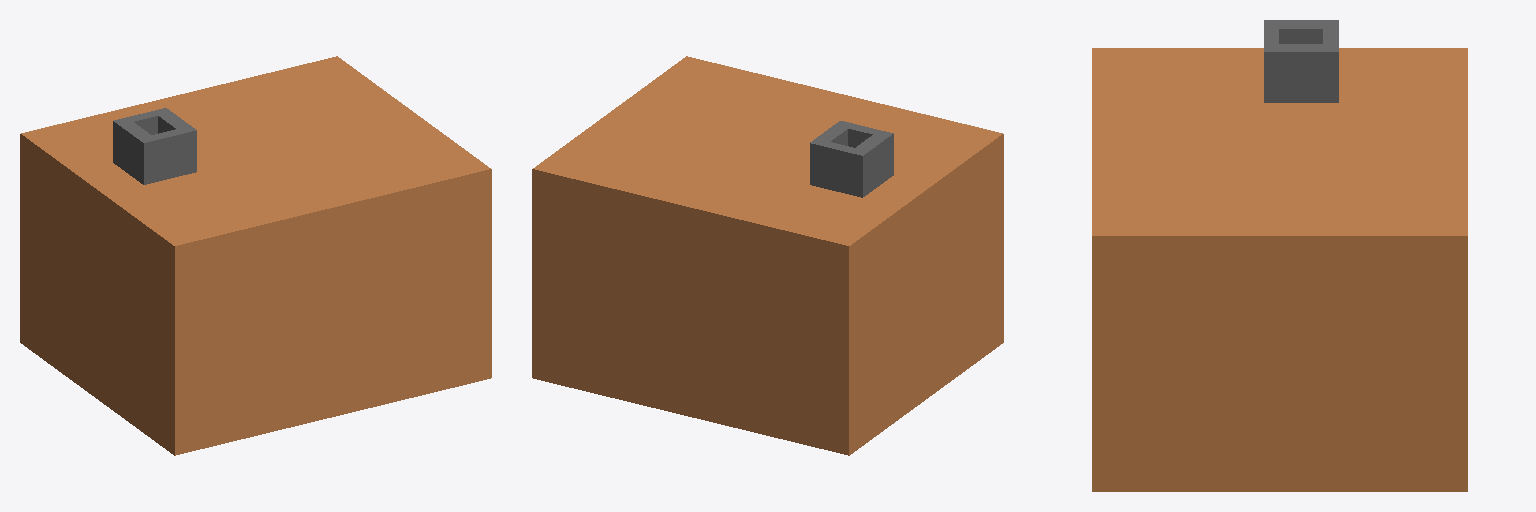
The robot description file, URDF, robot "peg_in_hole_scene_0028_tol09":
<?xml version="1.0"?>
<robot name="peg_in_hole_scene_0028_tol09">
  <material name="wood"><color rgba="0.82 0.56 0.35 1.0"/></material>
  <material name="hole_grey"><color rgba="0.4706 0.4706 0.4706 1.0"/></material>
  <link name="box">
    <visual>
      <origin xyz="0.000000 0.000000 0.000000" rpy="0 0 0"/>
      <geometry><box size="0.475000 0.400000 0.300000"/></geometry>
      <material name="wood"/>
    </visual>
    <collision>
      <origin xyz="0.000000 0.000000 0.000000" rpy="0 0 0"/>
      <geometry><box size="0.475000 0.400000 0.300000"/></geometry>
    </collision>
    <visual>
      <origin xyz="-0.138343 0.022604 0.155000" rpy="0 0 0"/>
      <geometry><box size="0.080000 0.080000 0.010000"/></geometry>
      <material name="hole_grey"/>
    </visual>
    <collision>
      <origin xyz="-0.138343 0.022604 0.155000" rpy="0 0 0"/>
      <geometry><box size="0.080000 0.080000 0.010000"/></geometry>
    </collision>
    <visual>
      <origin xyz="-0.109029 0.022604 0.185000" rpy="0 0 0"/>
      <geometry><box size="0.021373 0.080000 0.050000"/></geometry>
      <material name="hole_grey"/>
    </visual>
    <collision>
      <origin xyz="-0.109029 0.022604 0.185000" rpy="0 0 0"/>
      <geometry><box size="0.021373 0.080000 0.050000"/></geometry>
    </collision>
    <visual>
      <origin xyz="-0.167656 0.022604 0.185000" rpy="0 0 0"/>
      <geometry><box size="0.021373 0.080000 0.050000"/></geometry>
      <material name="hole_grey"/>
    </visual>
    <collision>
      <origin xyz="-0.167656 0.022604 0.185000" rpy="0 0 0"/>
      <geometry><box size="0.021373 0.080000 0.050000"/></geometry>
    </collision>
    <visual>
      <origin xyz="-0.138343 0.054418 0.185000" rpy="0 0 0"/>
      <geometry><box size="0.037254 0.016373 0.050000"/></geometry>
      <material name="hole_grey"/>
    </visual>
    <collision>
      <origin xyz="-0.138343 0.054418 0.185000" rpy="0 0 0"/>
      <geometry><box size="0.037254 0.016373 0.050000"/></geometry>
    </collision>
    <visual>
      <origin xyz="-0.138343 -0.009209 0.185000" rpy="0 0 0"/>
      <geometry><box size="0.037254 0.016373 0.050000"/></geometry>
      <material name="hole_grey"/>
    </visual>
    <collision>
      <origin xyz="-0.138343 -0.009209 0.185000" rpy="0 0 0"/>
      <geometry><box size="0.037254 0.016373 0.050000"/></geometry>
    </collision>
    <inertial>
      <mass value="500"/>
      <friction value="1.0"/>
      <inertia ixx="1000.0" ixy="0.0" ixz="0.0" iyy="1000.0" iyz="0.0" izz="1000.0"/>
    </inertial>
  </link>
</robot>

--- Render facts (derived) ---
The picture shows the robot from 3 angles, left to right: view 1: azimuth 30°, elevation 25°; view 2: azimuth 150°, elevation 25°; view 3: azimuth 270°, elevation 25°; orthographic projection.
Model peg_in_hole_scene_0028_tol09 with 1 links and 0 joints (none), rooted at box, posed every joint at zero.
Visible links, largest first — view 1: box; view 2: box; view 3: box.
Boxes of the visible links, box(x1,y1,x2,y2) form: box: box(20, 56, 491, 455); box: box(532, 56, 1003, 455); box: box(1092, 20, 1467, 491).
Size in the robot's own frame: 0.475 by 0.4 by 0.36 metres.
Geometry: primitives only (box / cylinder / sphere), no mesh files.
